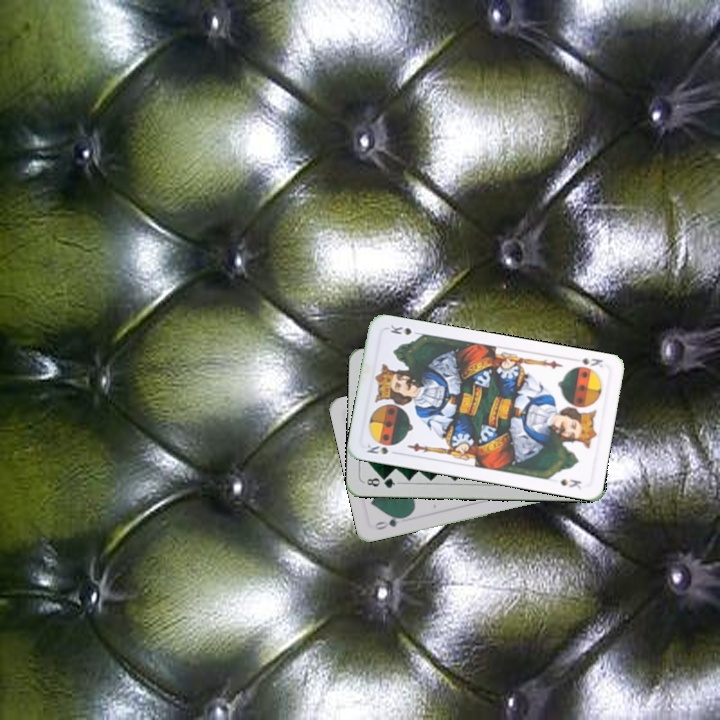G8: (363, 473, 401, 491)
GO: (370, 512, 410, 532)
SK: (362, 440, 391, 457), (578, 354, 605, 370)
